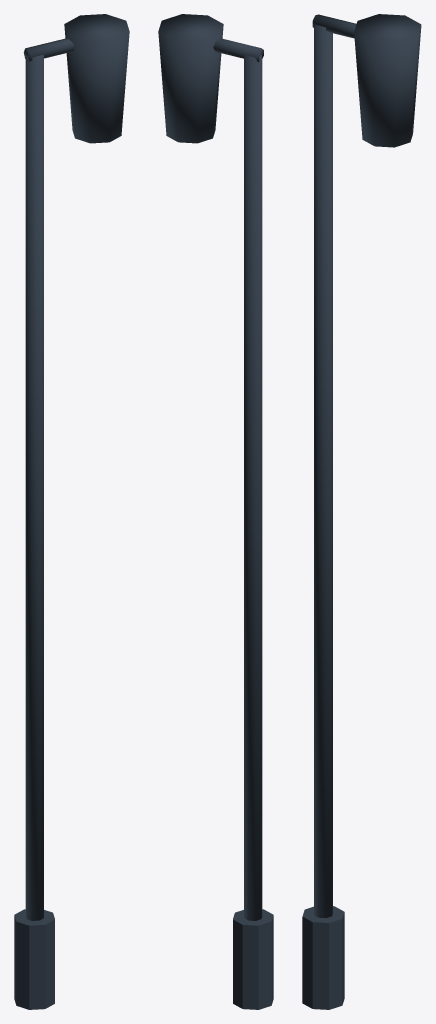
Rendered from street_lamp_01.gltf.
3 renders of one model, left to right at view 1: azimuth 30°, elevation 25°; view 2: azimuth 150°, elevation 25°; view 3: azimuth 330°, elevation 25°, orthographic. The views are drawn at different scales.
Visible parts, largest first — view 1: pole, head, base, arm; view 2: pole, head, base, arm; view 3: pole, head, base, arm.
Part boxes in pixels (x1,y1,x2,y2): pole: [25, 54, 43, 920]; head: [64, 14, 129, 143]; base: [14, 909, 54, 1009]; arm: [23, 38, 74, 61]; pole: [244, 54, 262, 920]; head: [158, 14, 223, 143]; base: [233, 909, 273, 1009]; arm: [213, 38, 263, 62]; pole: [314, 24, 332, 917]; head: [354, 14, 421, 147]; base: [302, 906, 344, 1009]; arm: [312, 14, 356, 38].
Bounding box in the file's own units: 0.4226 × 3.52 × 0.2254.
